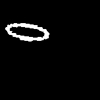chain: (5, 23, 48, 40)
